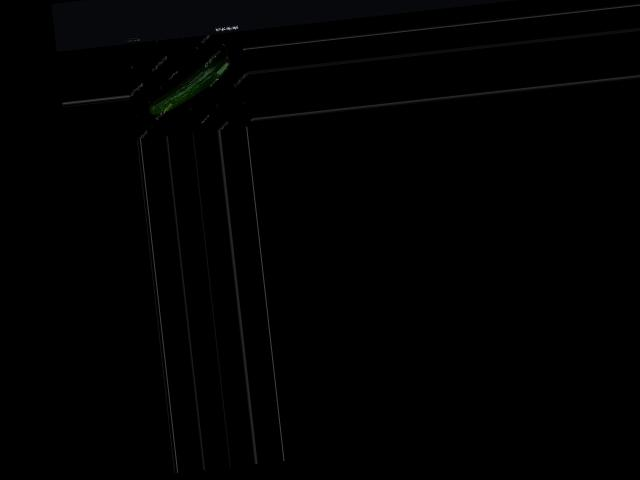cucumber: (142, 52, 234, 116)
